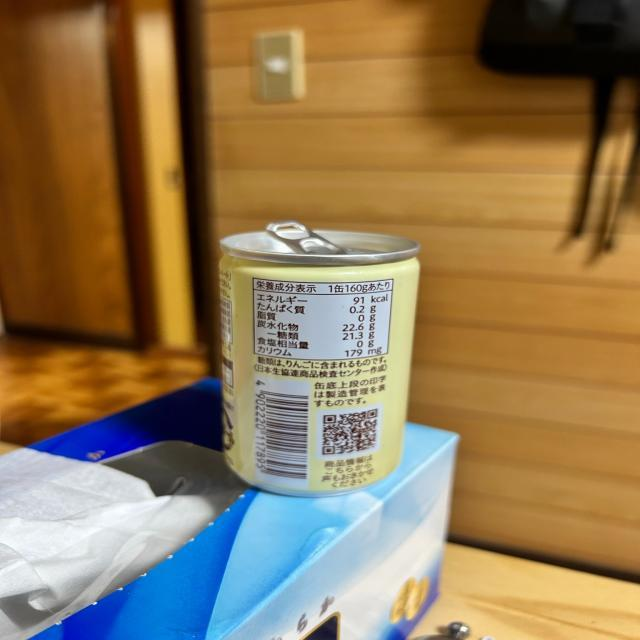kimloai: (219, 221, 420, 495)
